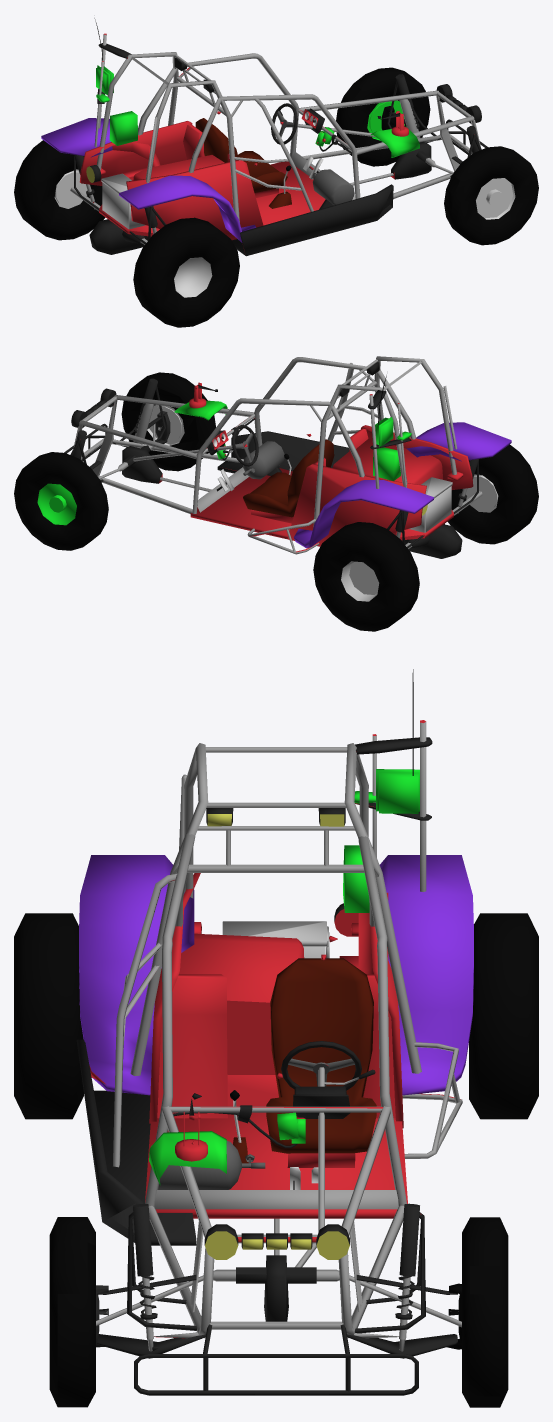
The model's file is buggy.dae.
3 views of the same model, one above another, from view 1: azimuth 30°, elevation 25°; view 2: azimuth 150°, elevation 25°; view 3: azimuth 270°, elevation 25° (orthographic). The views are drawn at different scales.
Parts seen in each view (by area): view 1: _null__0012, _null__0012_002, _null__0012_007; view 2: _null__0012, _null__0012_007, _null__0012_002; view 3: _null__0012, _null__0012_007, _null__0012_002.
Part boxes in pixels (x1,y1,x2,y2): _null__0012: (14, 18, 487, 327); _null__0012_002: (444, 146, 538, 245); _null__0012_007: (336, 67, 430, 166); _null__0012: (64, 356, 538, 631); _null__0012_007: (14, 452, 108, 550); _null__0012_002: (121, 372, 215, 471); _null__0012: (14, 669, 538, 1395); _null__0012_007: (447, 1217, 508, 1407); _null__0012_002: (49, 1217, 108, 1407).
Bounding box in the file's own units: 1.77 × 1.04 × 0.9932.
